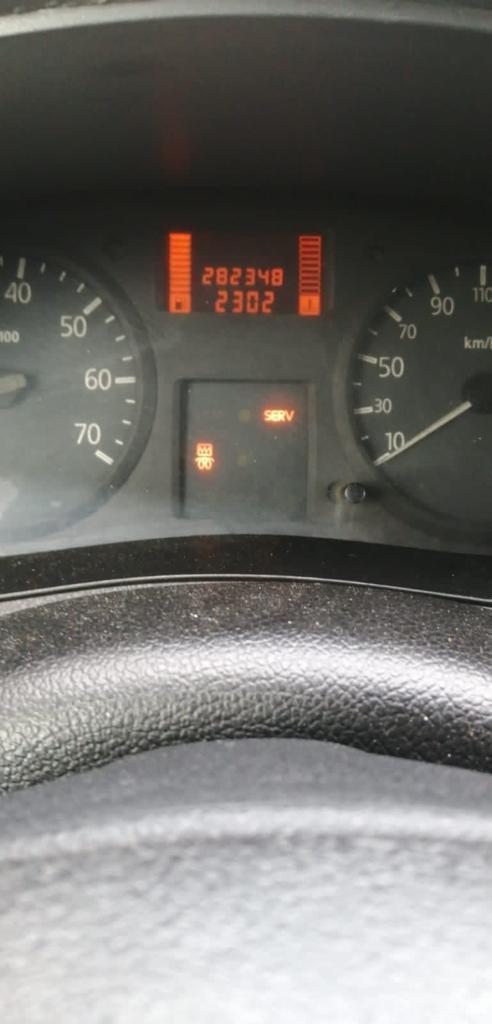0: (246, 289, 259, 313)
2: (214, 289, 228, 313), (262, 290, 274, 313), (229, 267, 242, 285), (202, 266, 214, 283)
3: (231, 289, 243, 313), (244, 267, 256, 285)
4: (257, 267, 269, 285)
8: (215, 265, 228, 285), (271, 267, 283, 286)
odometer: (151, 225, 337, 316)
